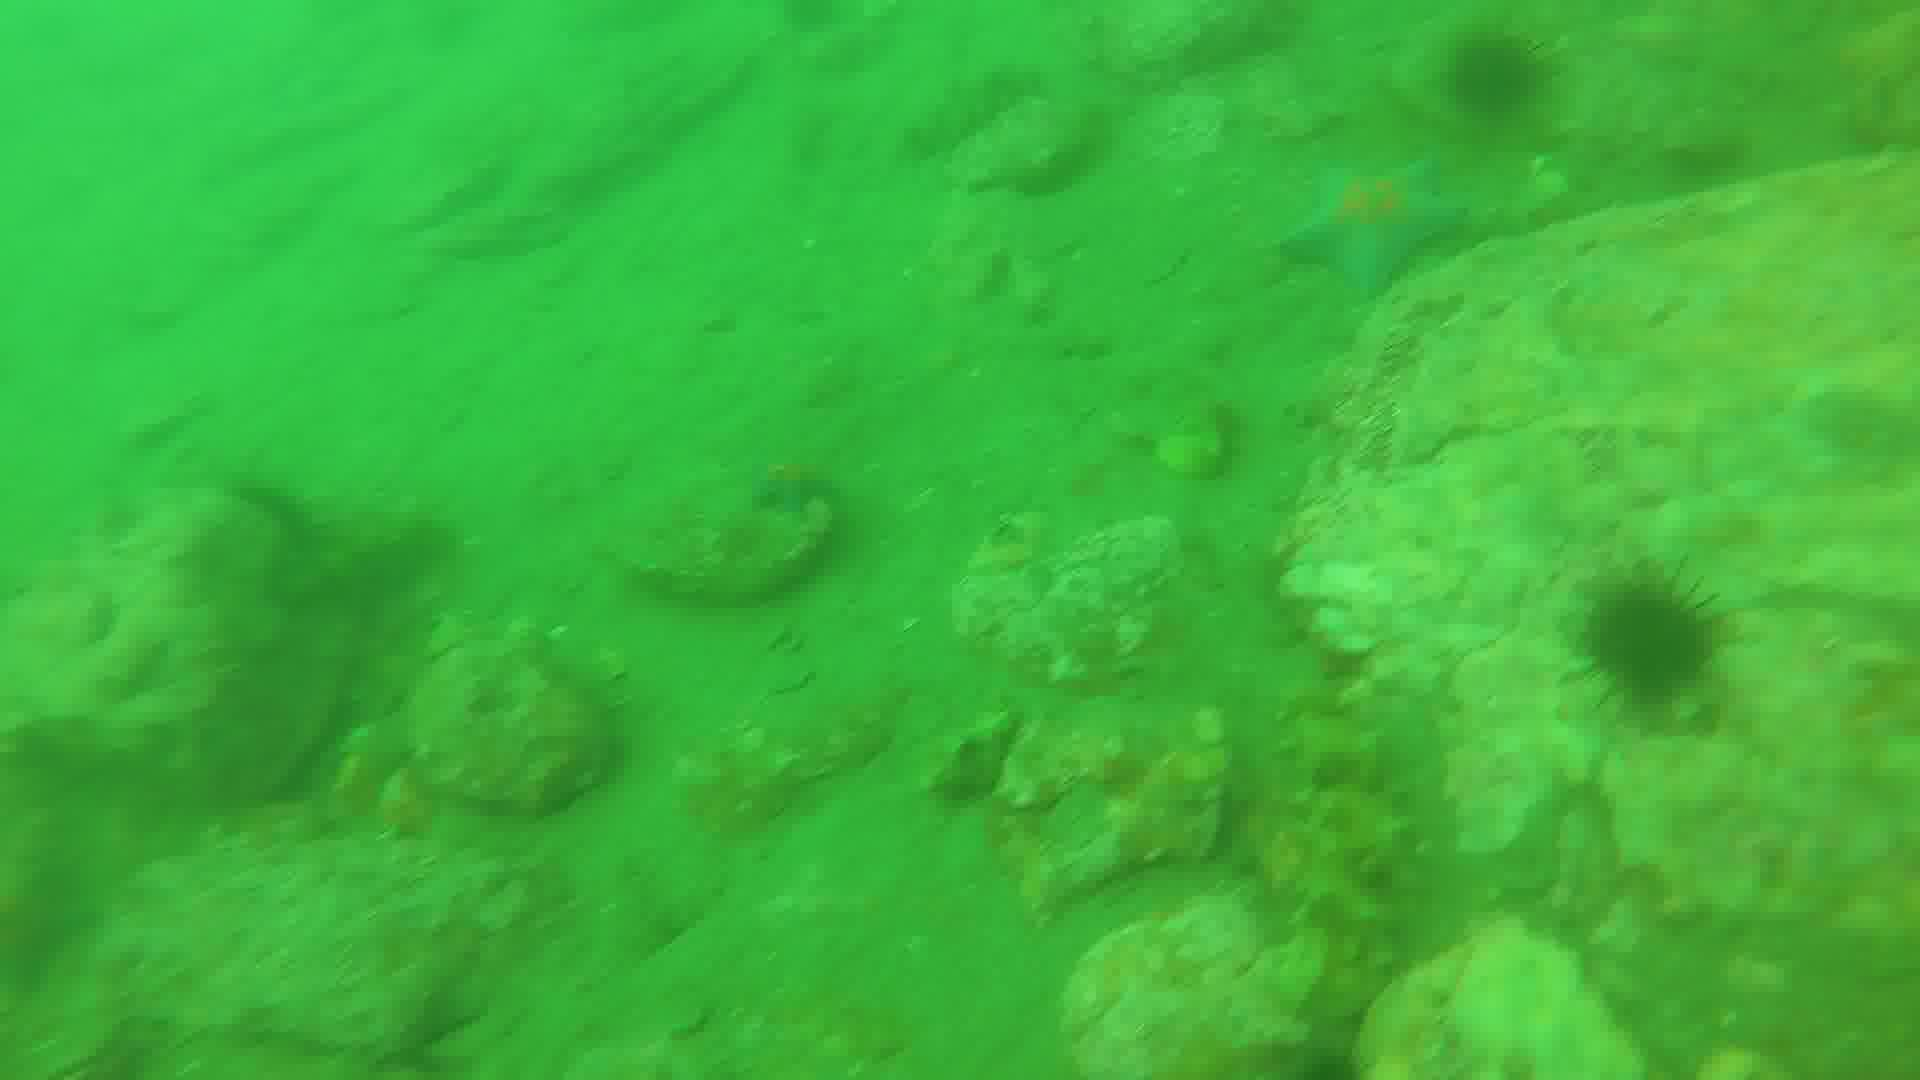echinus: (1576, 574, 1720, 712), (1447, 32, 1553, 121)
starfish: (1270, 164, 1458, 295)
